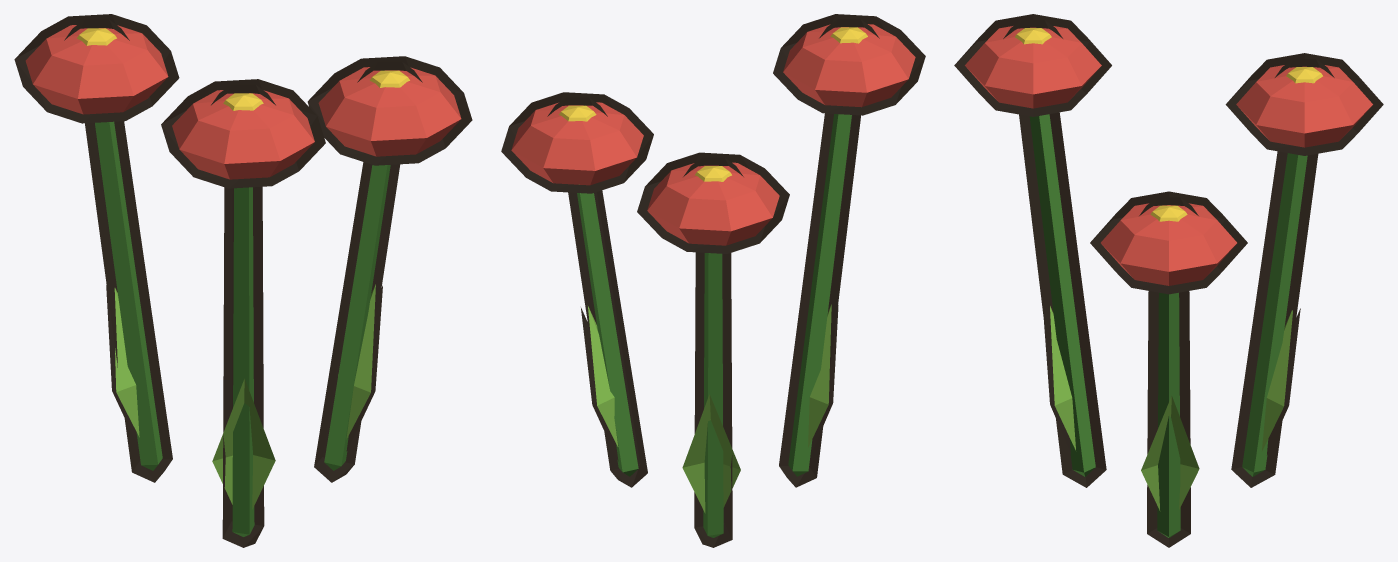
Rendered from flower_02.glb.
3 views of the same model, side by side, from view 1: azimuth 30°, elevation 25°; view 2: azimuth 150°, elevation 25°; view 3: azimuth 270°, elevation 25° (orthographic). The views are drawn at different scales.
Parts seen in each view (by area): view 1: OBJ_flower_02; view 2: OBJ_flower_02; view 3: OBJ_flower_02.
Boxes of the visible parts, x1,y1,x2,y2 form: OBJ_flower_02: (14,14,472,547); OBJ_flower_02: (501,14,925,547); OBJ_flower_02: (954,14,1383,547).
Size of the model in its own units: 0.2008 by 0.2549 by 0.2194.
